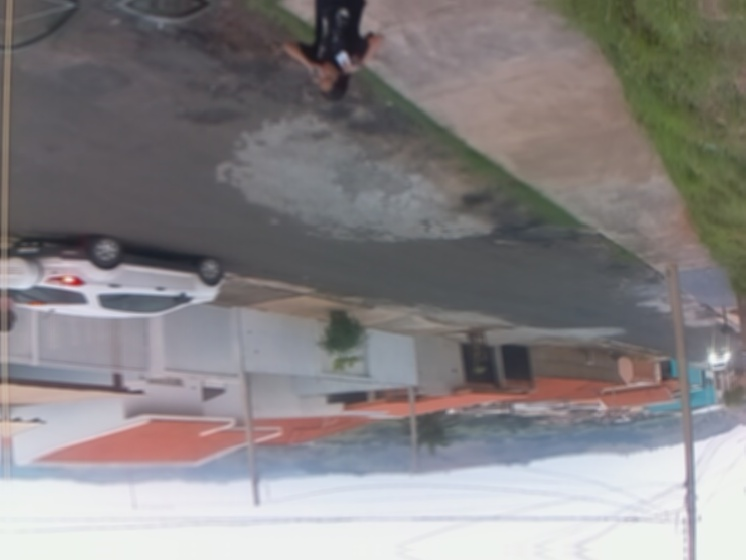person: (281, 0, 387, 103)
